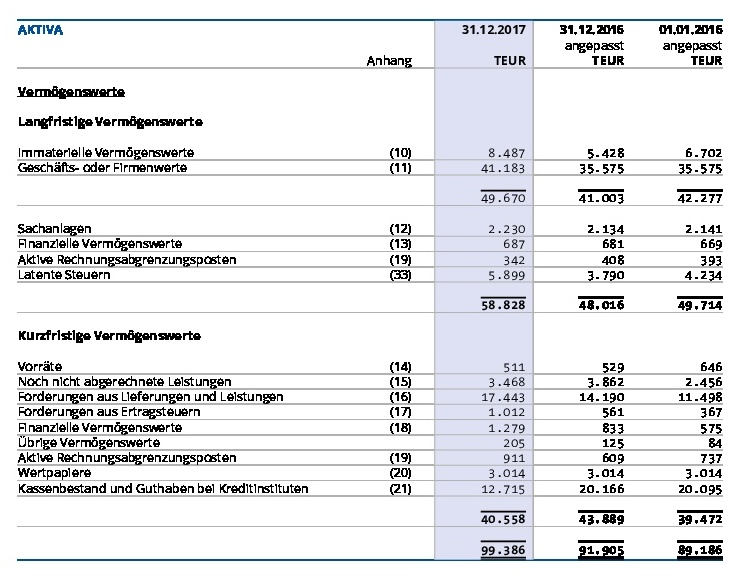table: (0, 0, 737, 582)
